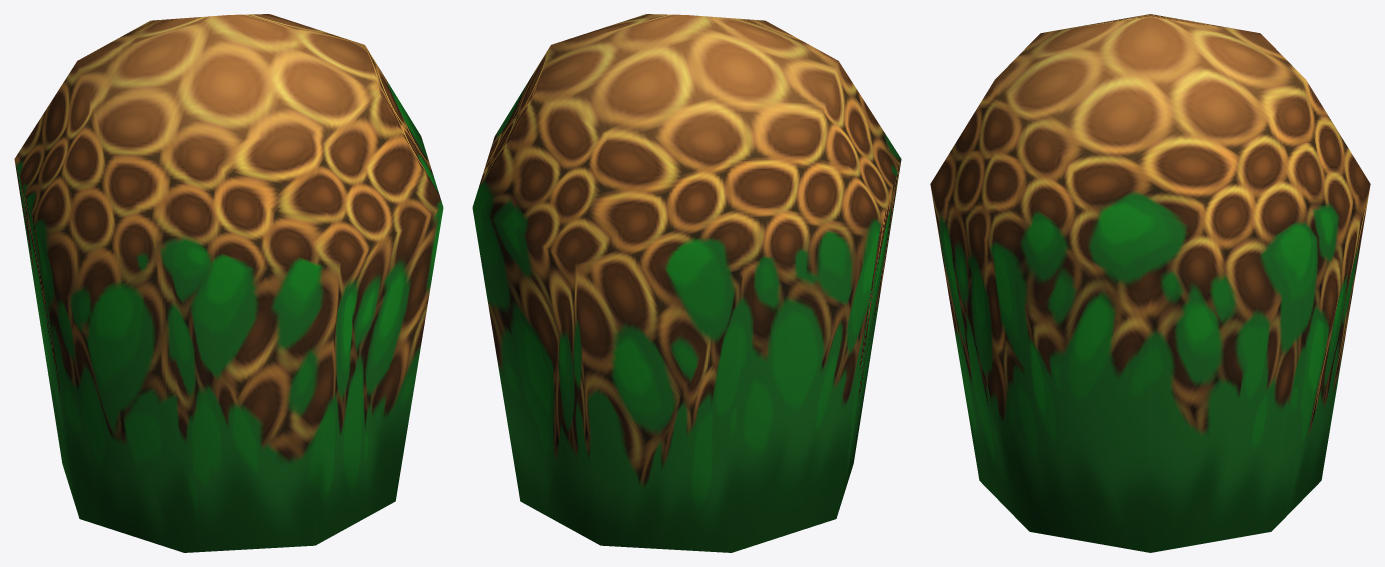
The model's file is Coral_27c.FBX.
3 views of the same model, side by side, from view 1: azimuth 30°, elevation 25°; view 2: azimuth 150°, elevation 25°; view 3: azimuth 270°, elevation 25° (orthographic).
Visible parts, largest first — view 1: Coral_27c; view 2: Coral_27c; view 3: Coral_27c.
Part boxes in pixels (box(x1,y1,x2,y2)): Coral_27c: box(14, 14, 443, 552); Coral_27c: box(472, 14, 901, 552); Coral_27c: box(930, 14, 1370, 552).
Size of the model in its own units: 29.28 by 34 by 29.28.
